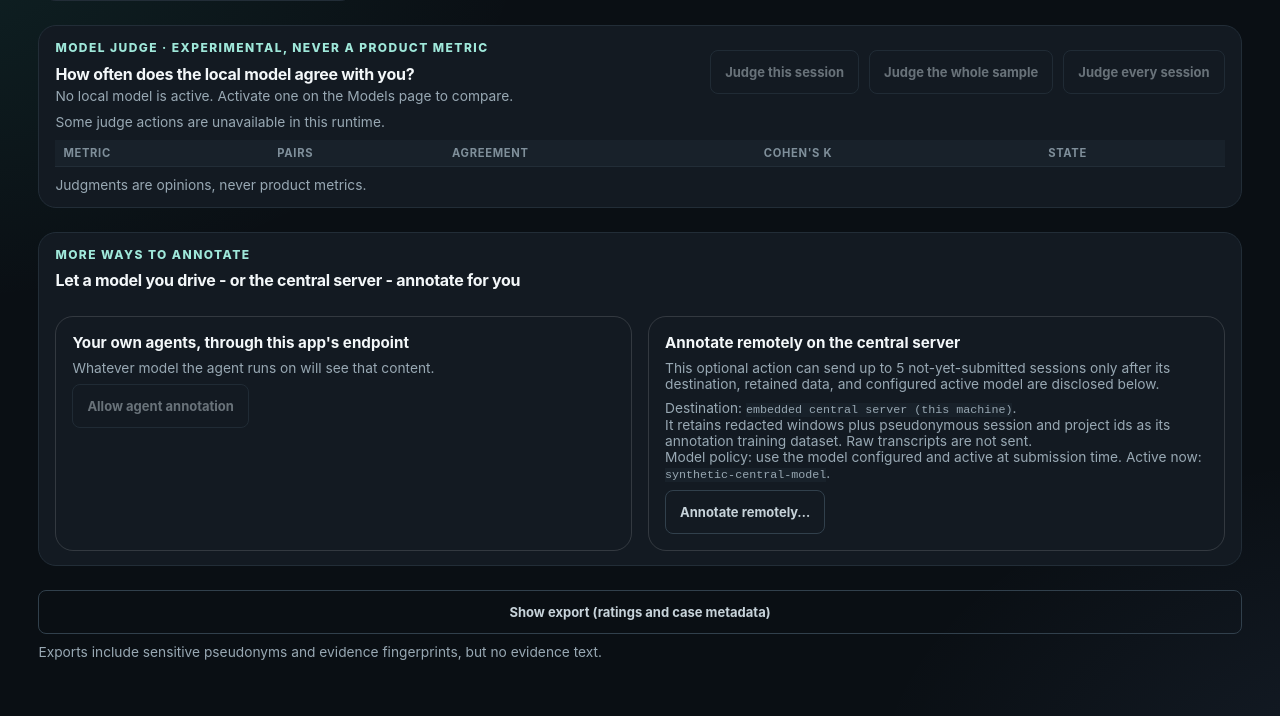
CalibrationPage › shows an uncertain remote submission inside its dialog and blocks a blind duplicate
(page scrolled)
What coordinates should you click on to do the following:
click the button "Annotate remotely…"
I would click on:
 (745, 512)
Its box is top-left (665, 490), bottom-right (825, 534).
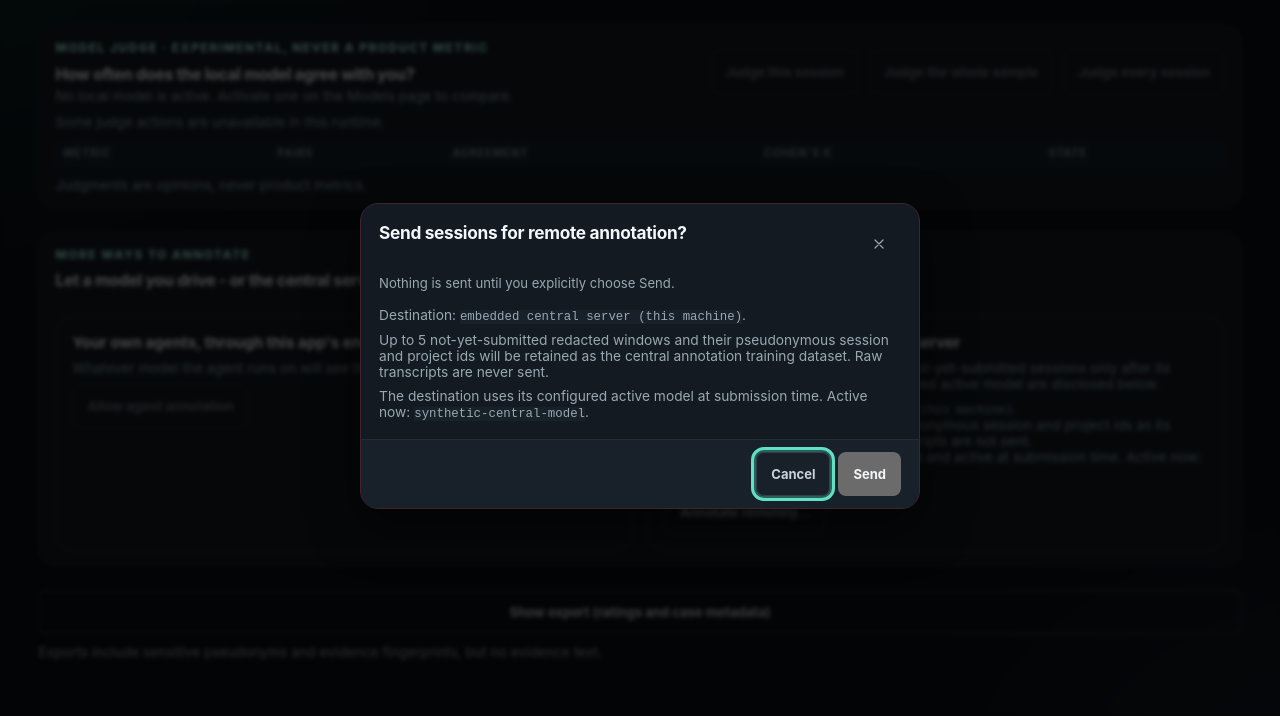
What coordinates should you click on to do the following:
click the button "Send"
I would click on:
 (870, 474)
Its box is top-left (838, 452), bottom-right (901, 496).
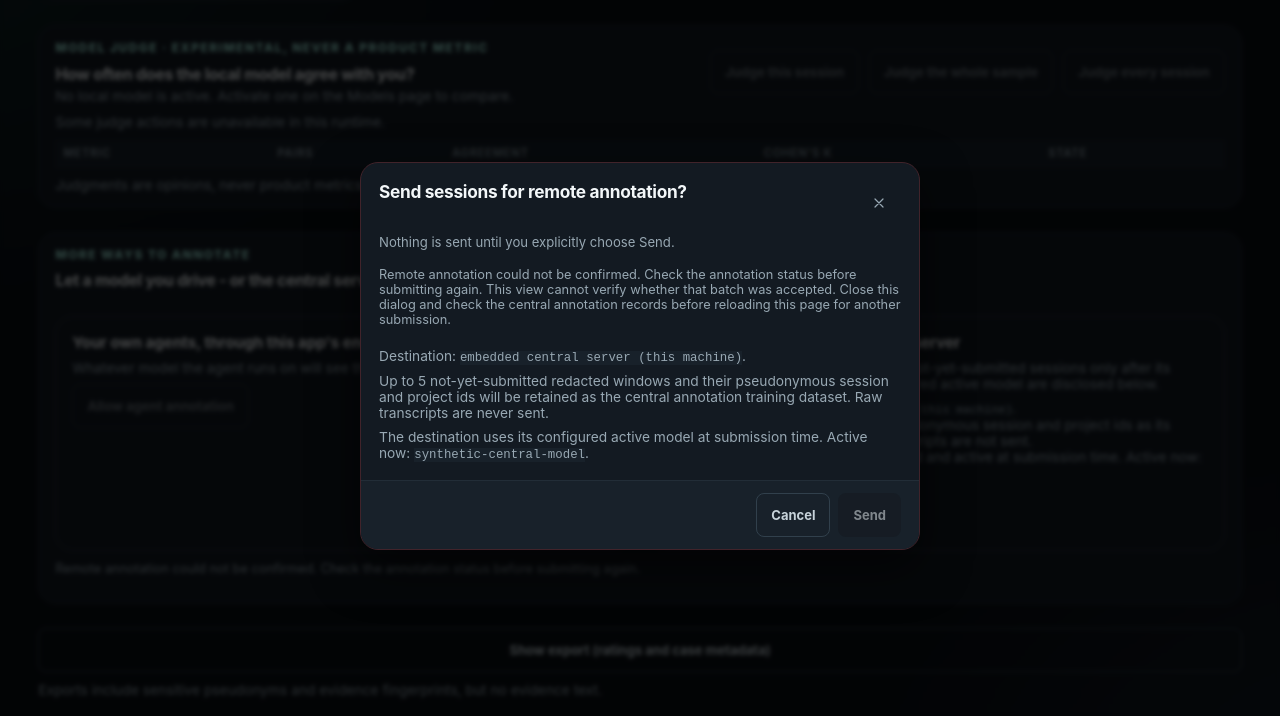
Expected: the button "Cancel" is enabled
Expected: the message shows "could not be confirmed", top-left (379, 267), bottom-right (857, 297)
Expected: the button "Send" is disabled, top-left (838, 493), bottom-right (901, 537)
What coordinates should you click on to do the following:
click the button "Cancel"
I would click on:
 (793, 515)
Its box is top-left (756, 493), bottom-right (830, 537).
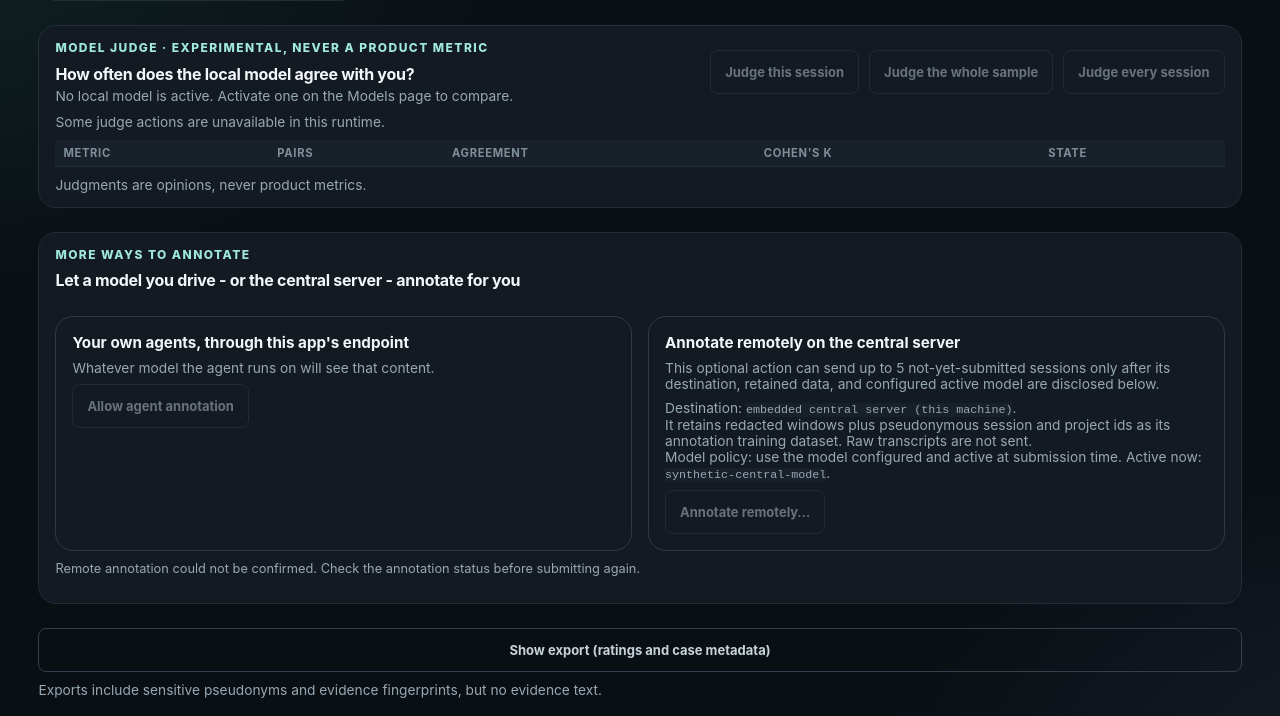
Expected: the button "Annotate remotely…" is disabled, top-left (665, 490), bottom-right (825, 534)
Expected: the dialog is gone
